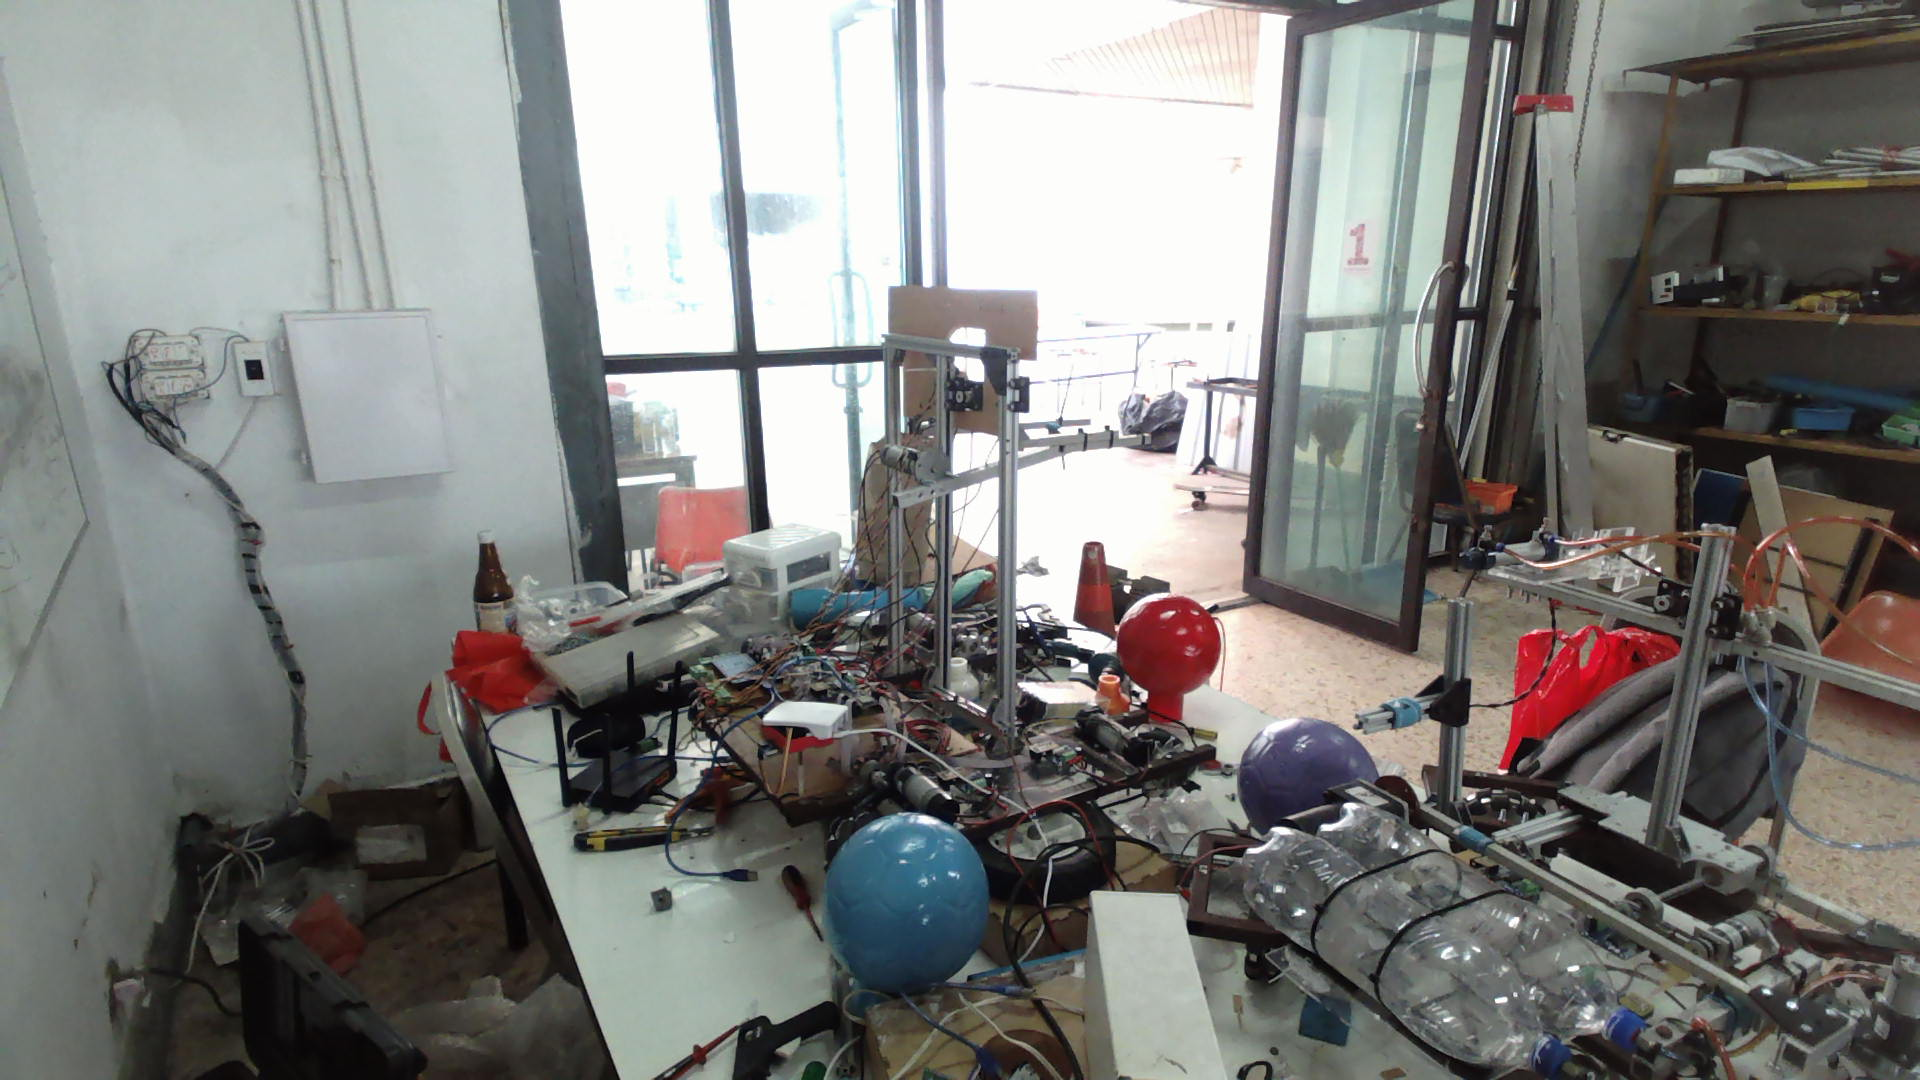Blue ball: (820, 808, 990, 994)
Purple ball: (1234, 715, 1385, 822)
Red ball: (1116, 589, 1222, 698)
